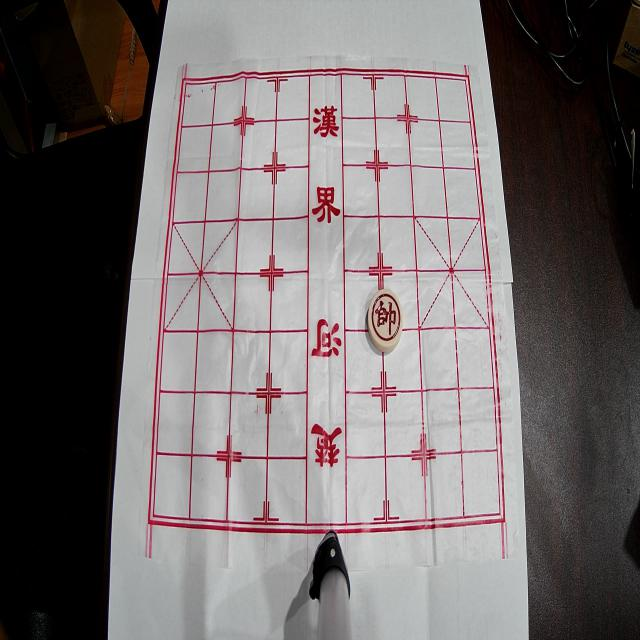red-general: (368, 289, 403, 352)
